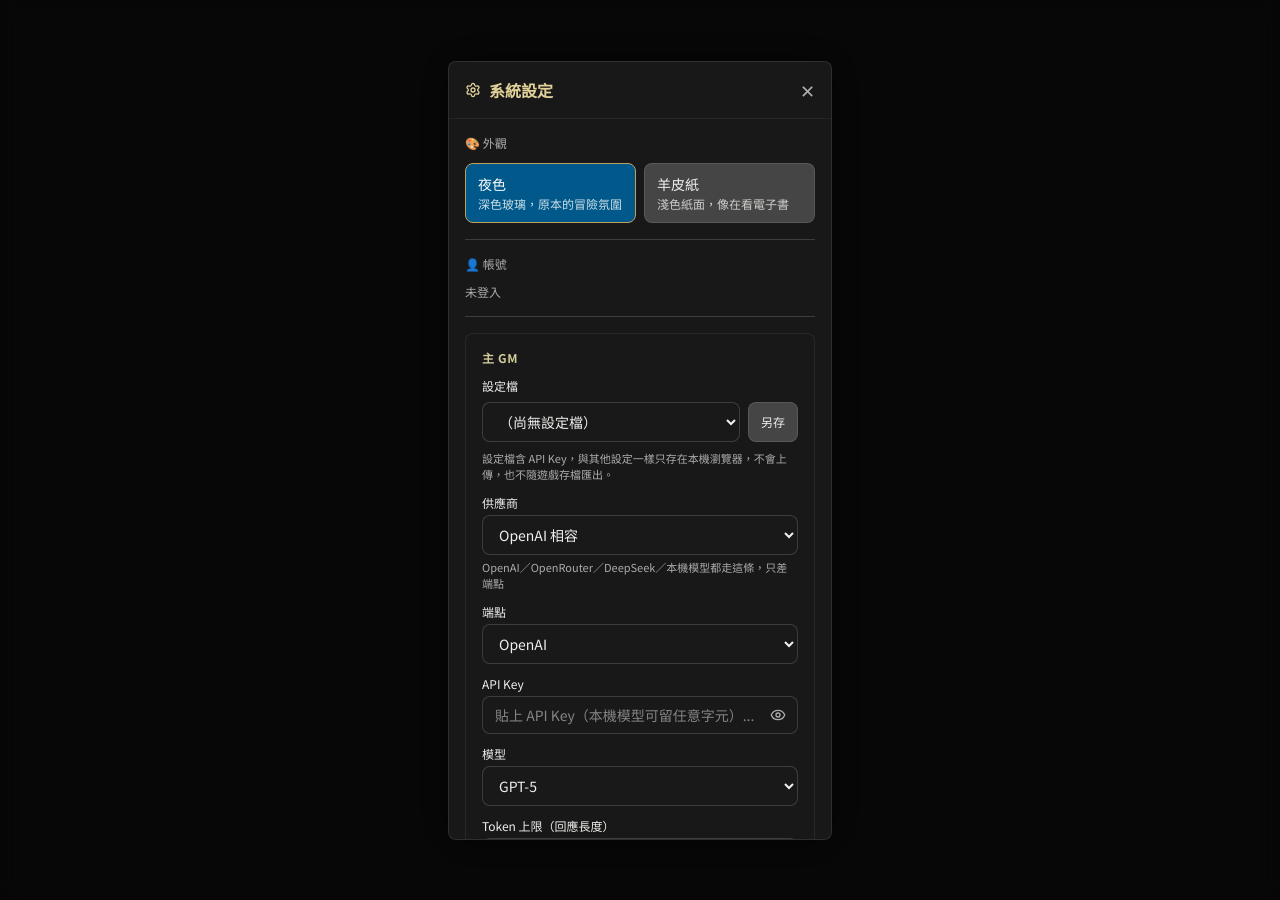
Test: SettingsModal — 供應商切換 › 換端點會一併帶上那家服務的常用型號
This screenshot has width=1280, height=900.
Select "DeepSeek" in the dropdown named "端點" at {"x": 640, "y": 644}, box [482,624,798,664]
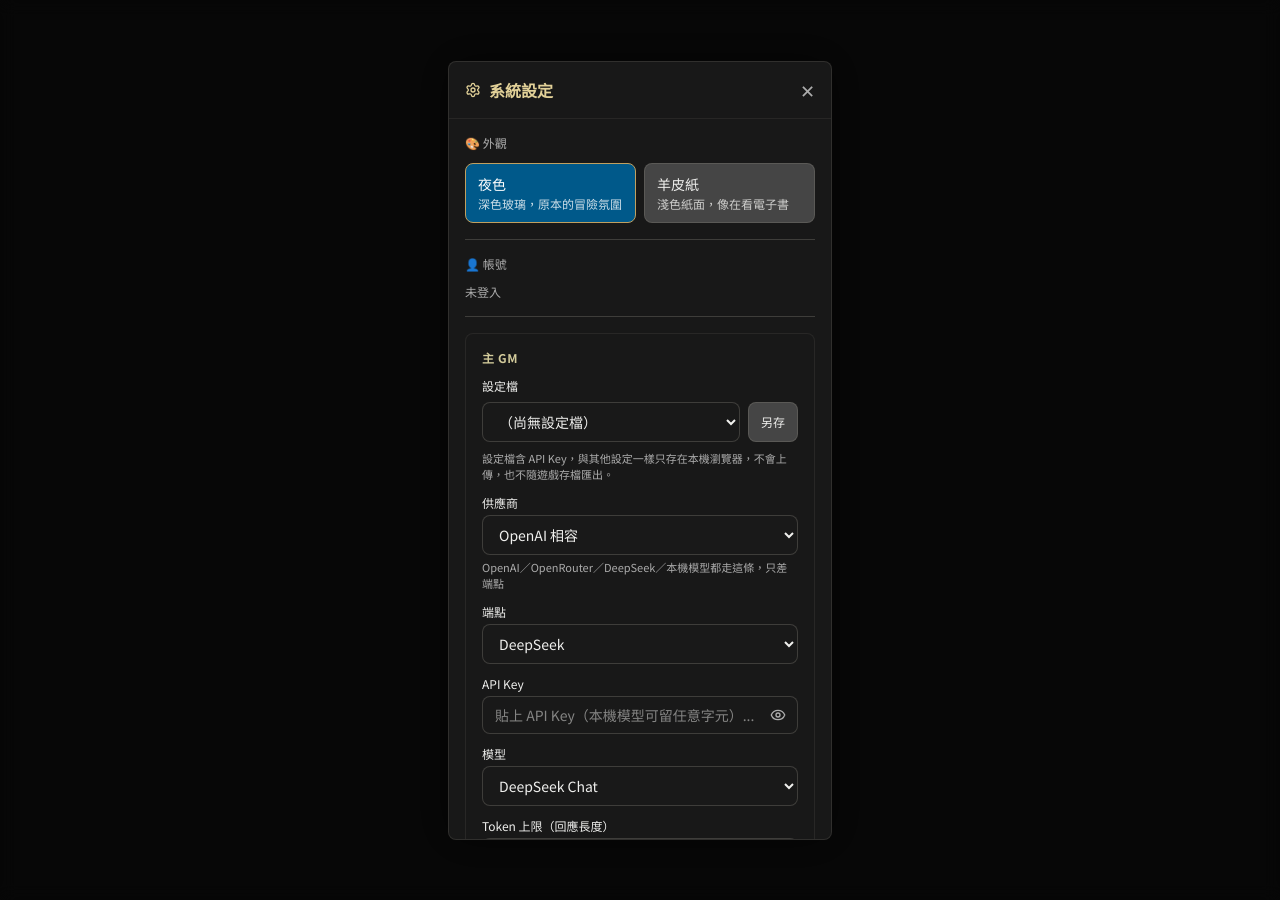
expect the dropdown named "模型" shows "DeepSeek Chat": met, box [482,766,798,806]
